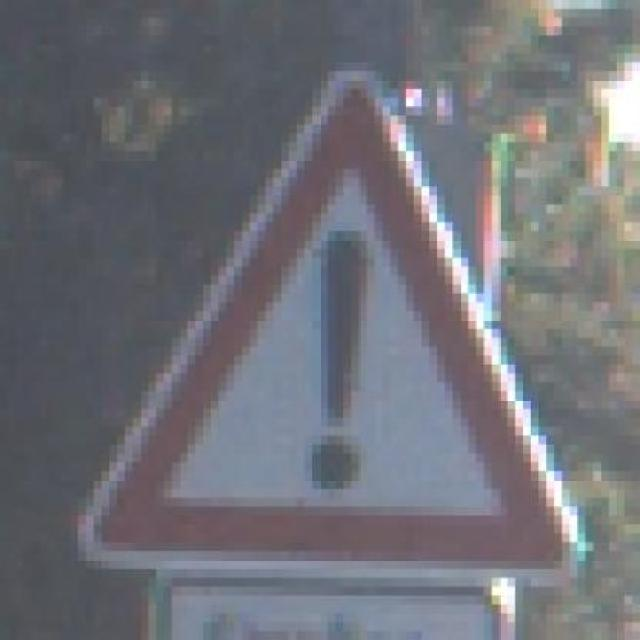Attention Please-: (46, 62, 609, 613)
